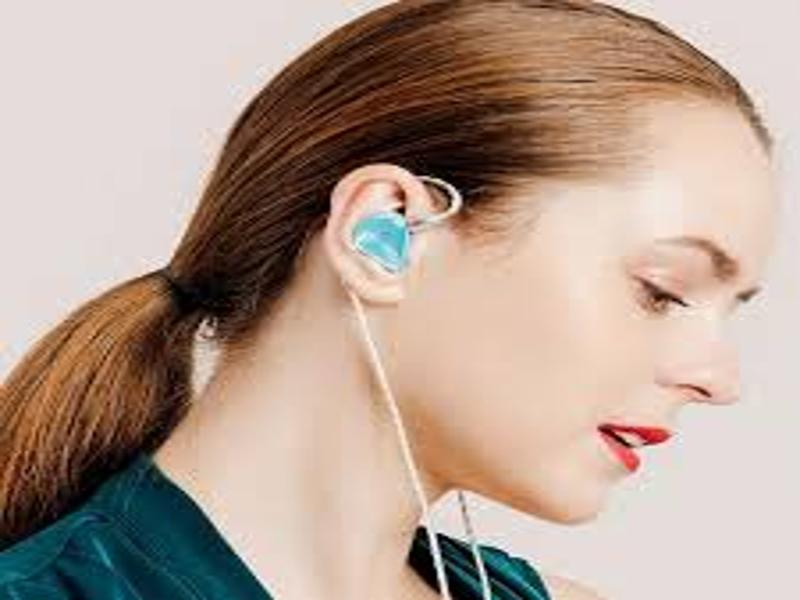headphone: (352, 216, 408, 268)
